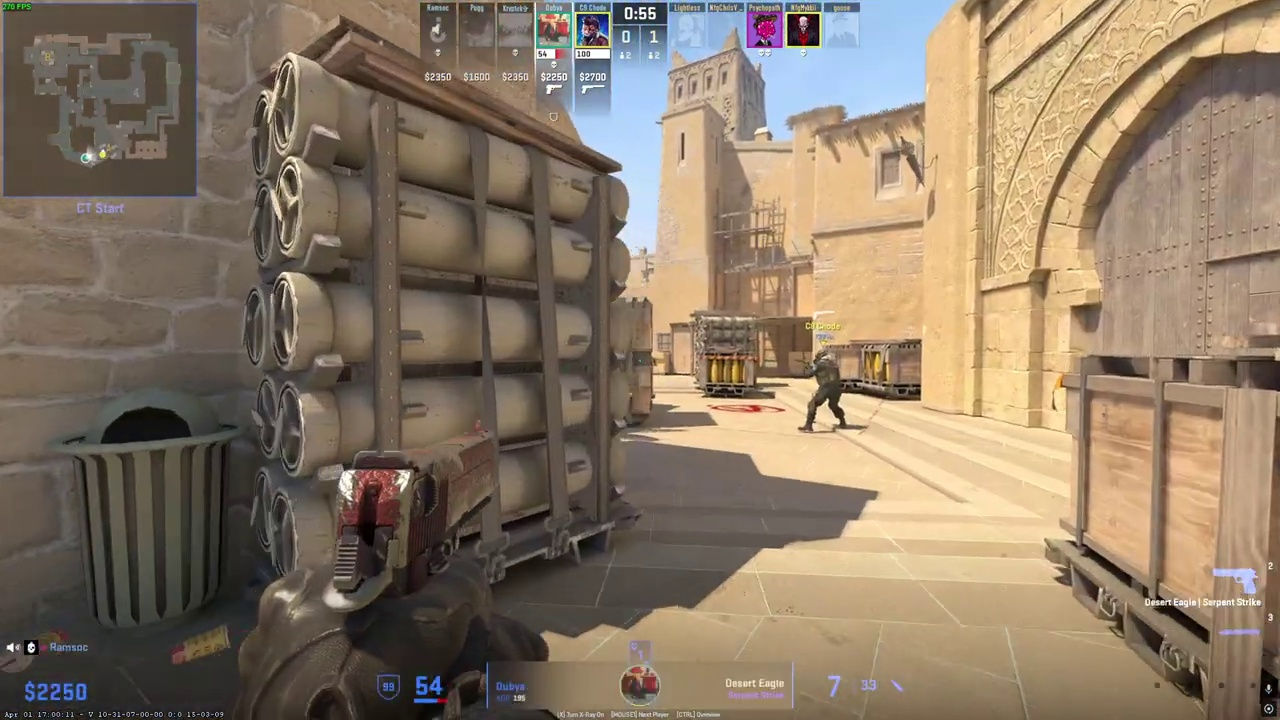CT: (804, 350, 847, 431)
